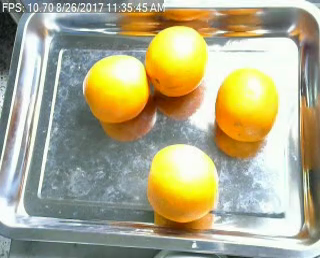Orange: (148, 143, 219, 220), (213, 66, 278, 143), (83, 53, 149, 123), (144, 25, 208, 97)
